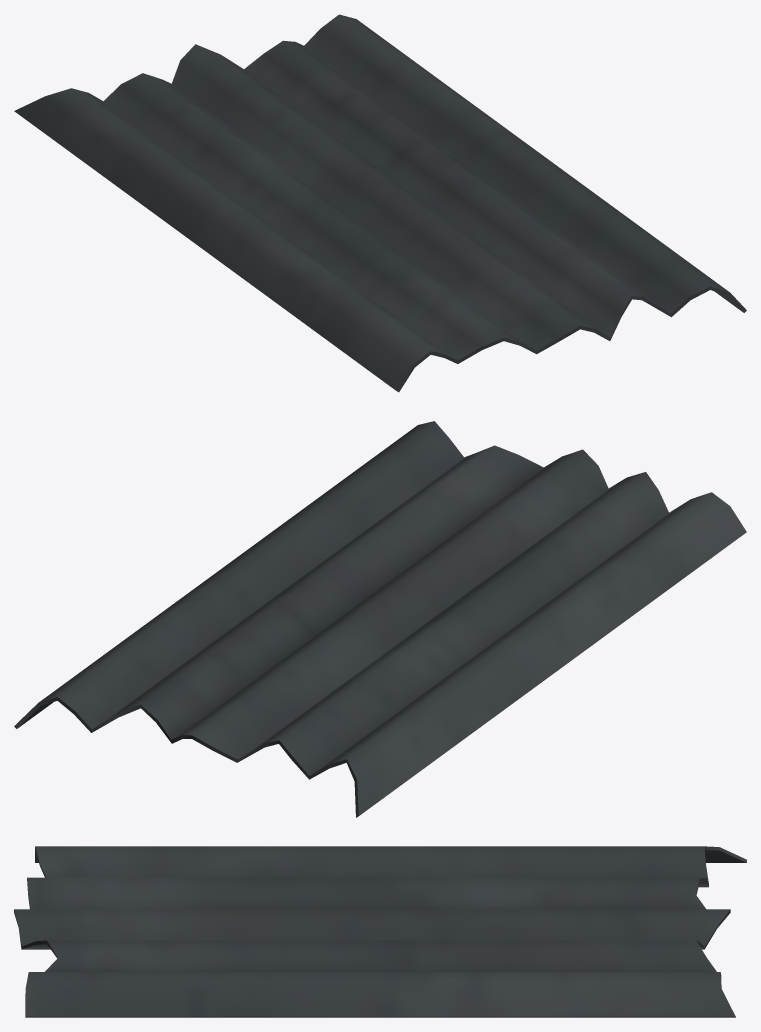
Rendered from slate_long_damaged.obj.
3 renders of one model, top to bottom at view 1: azimuth 30°, elevation 25°; view 2: azimuth 150°, elevation 25°; view 3: azimuth 270°, elevation 25°, orthographic. The views are drawn at different scales.
Visible parts, largest first — view 1: slate_long_damaged__EXPORT_TEMP; view 2: slate_long_damaged__EXPORT_TEMP; view 3: slate_long_damaged__EXPORT_TEMP.
Part boxes in pixels (bbox=[...]): slate_long_damaged__EXPORT_TEMP: bbox=[14, 14, 746, 392]; slate_long_damaged__EXPORT_TEMP: bbox=[14, 421, 746, 817]; slate_long_damaged__EXPORT_TEMP: bbox=[14, 846, 746, 1017].
Size of the model in its own units: 1 by 0.0925 by 1.97.
